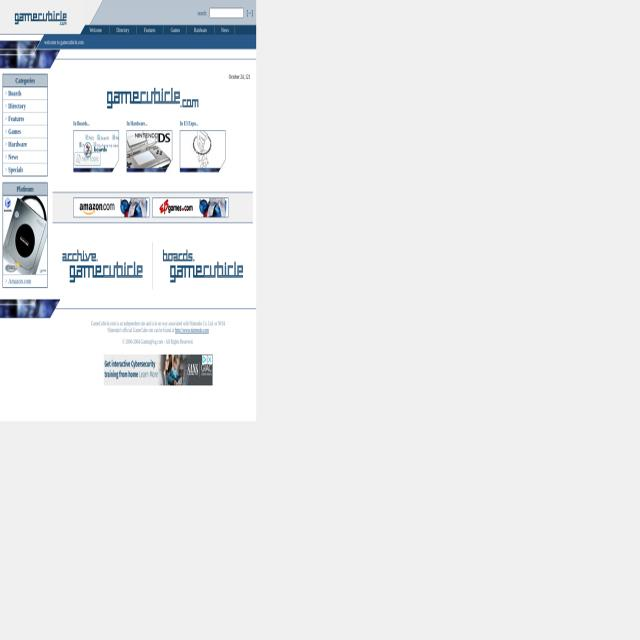button: (57, 242, 147, 289), (158, 242, 248, 289), (104, 354, 212, 387), (3, 196, 47, 274), (0, 0, 85, 35), (104, 84, 202, 113), (73, 130, 119, 172), (127, 130, 173, 172), (180, 130, 226, 172), (74, 198, 150, 218), (152, 198, 228, 218), (202, 353, 208, 367), (208, 354, 212, 364)
field: (210, 8, 243, 18)
